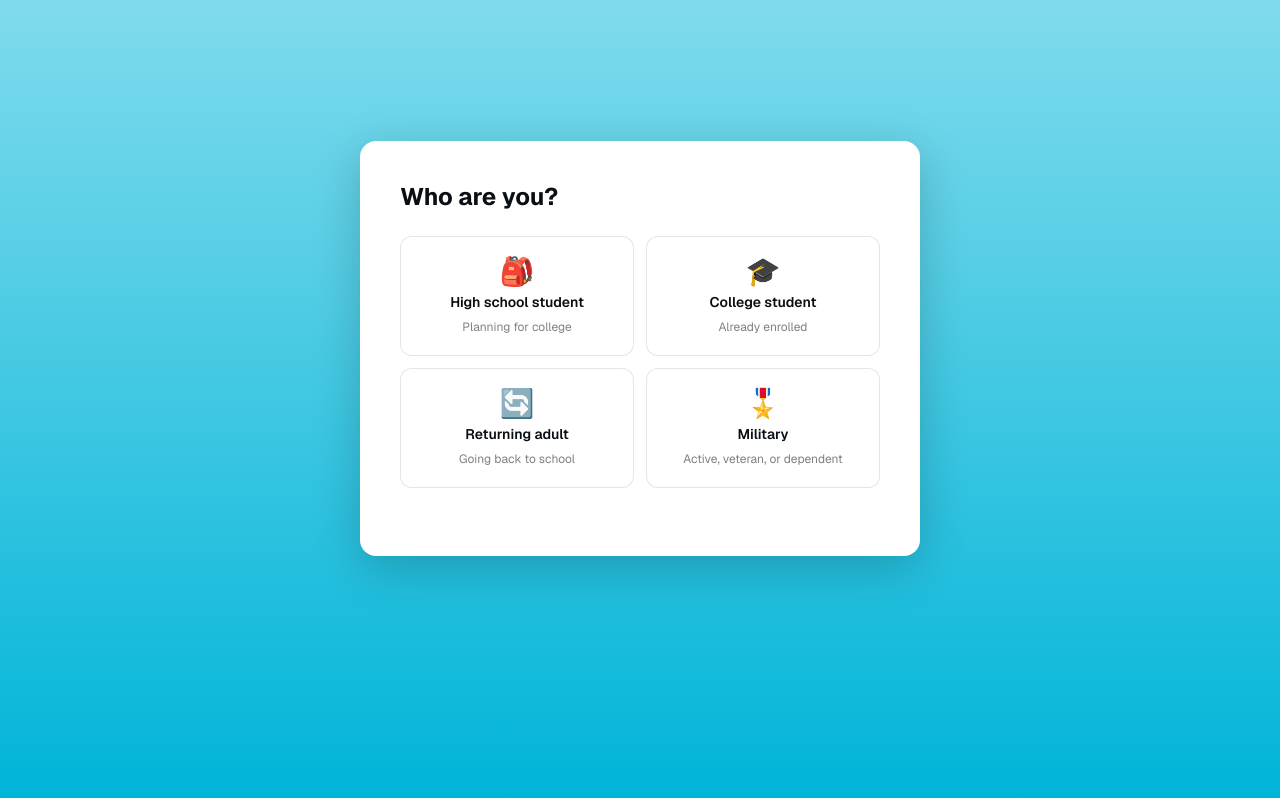
Test: Profile page › Save button is disabled when required fields are empty
Click the text "High school student" at (517, 302), box 450,292 -> 584,310
(page scrolled)
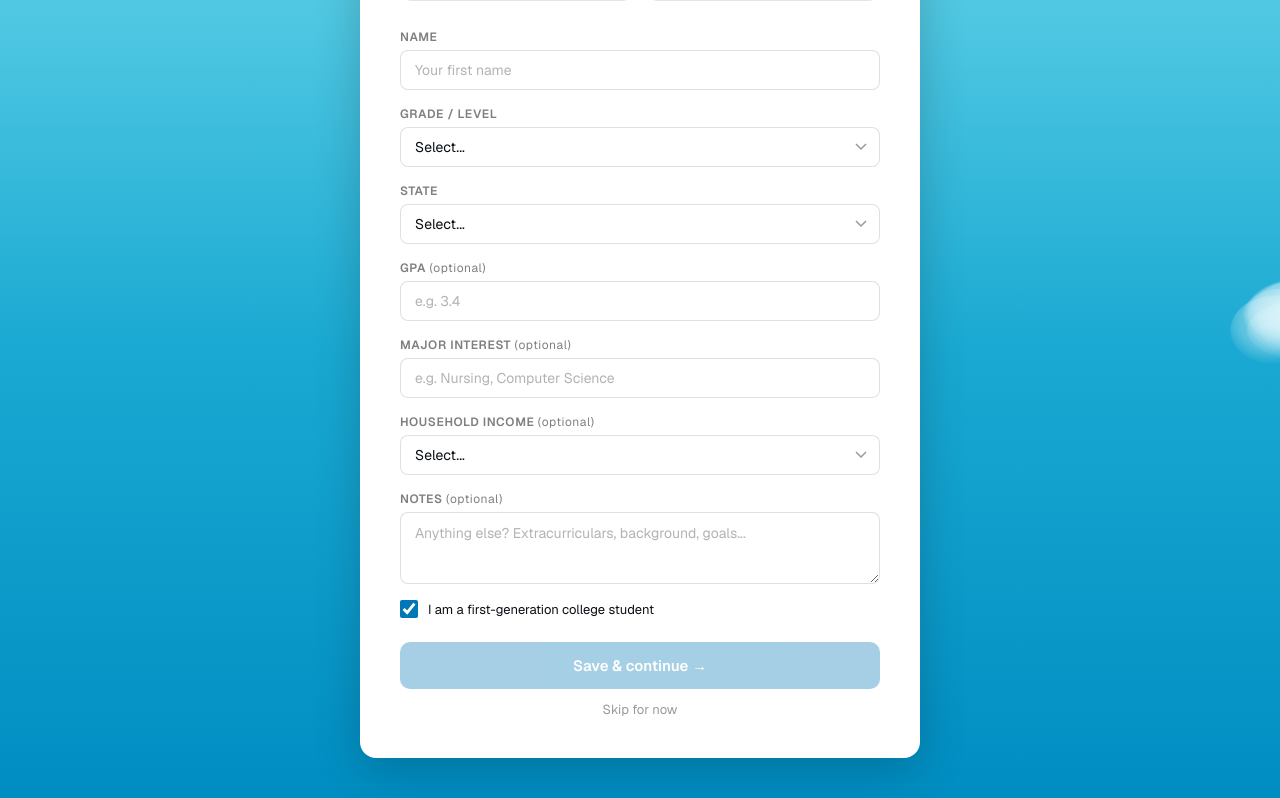
Result: the button "Save & continue →" is disabled at 400,642 -> 880,689
